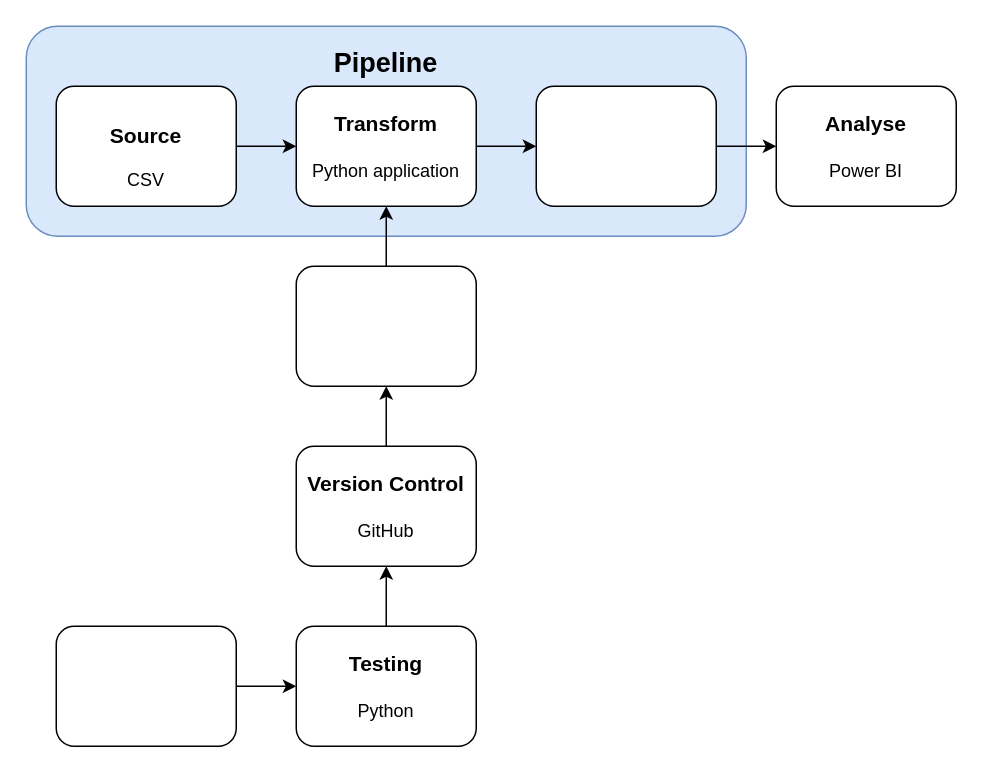
This 983x773 diagram has some shape labels left out. The centre of each missing label's shape, as x and y in pixels:
"CI/CD tbd (Docker?)" goes at point (385, 325).
"Destination SQL" goes at point (625, 145).
"Source Code Python" goes at point (145, 685).
